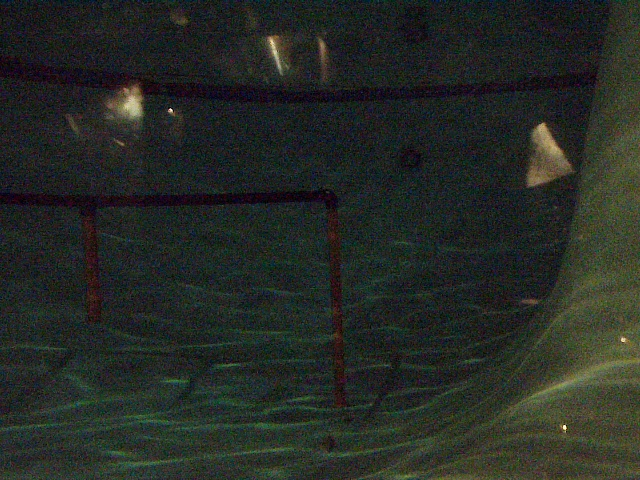Gate: (326, 205, 346, 399), (81, 209, 106, 326)
